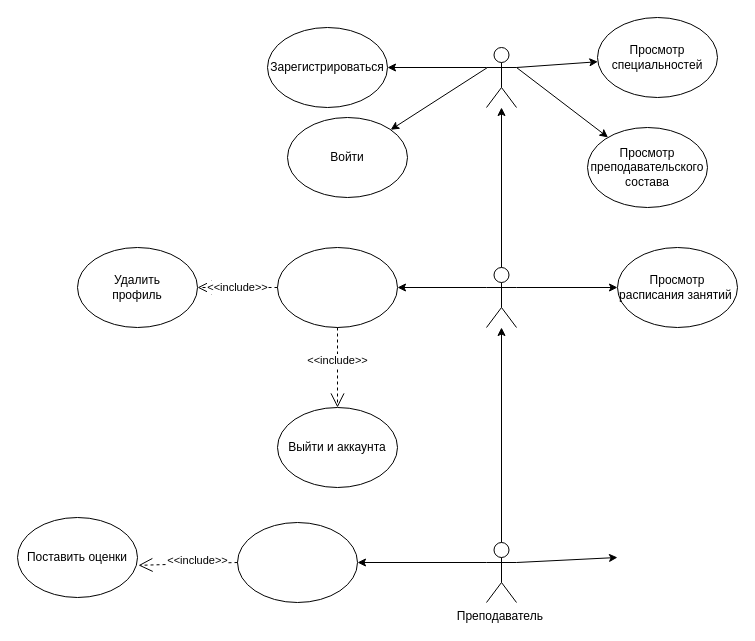
Image size: 755x641. Some labels were removed from this diagram. Each missing label, with the box of its shape:
Авторизованный: (486, 266, 516, 328)
Заполнить журнал: (236, 522, 358, 602)
Редактировать профиль: (276, 246, 398, 328)
Студент: (486, 46, 516, 108)
